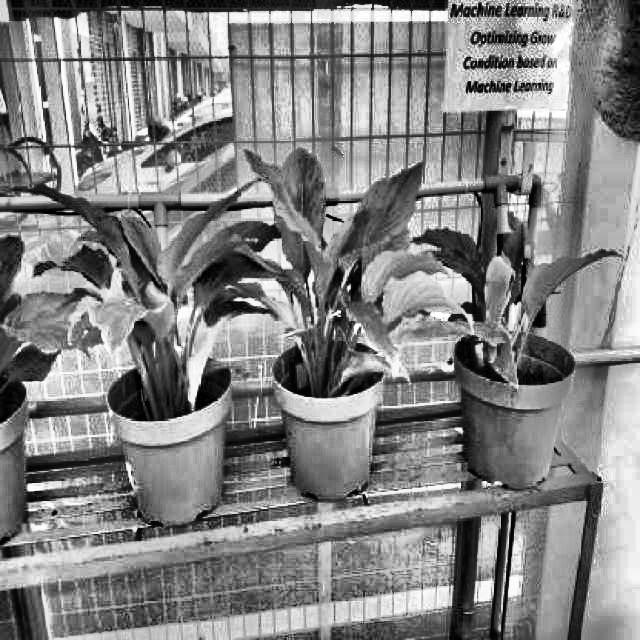plants: (10, 176, 298, 418), (220, 139, 452, 410)
